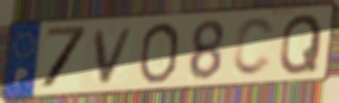7: (42, 24, 90, 94)
8: (188, 18, 228, 82)
C: (230, 15, 278, 79)
O: (136, 20, 182, 86)
Q: (277, 12, 325, 77)
V: (91, 25, 138, 86)
